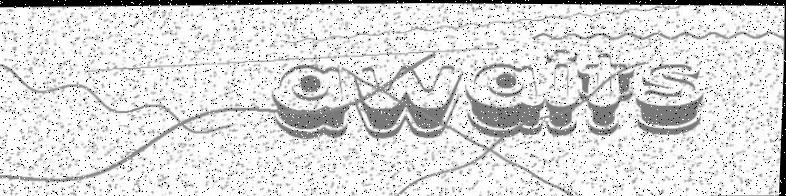a: (265, 60, 355, 141), (463, 56, 548, 138)
i: (543, 44, 583, 138)
s: (634, 56, 706, 135)
t: (576, 47, 638, 137)
w: (354, 59, 464, 137)
